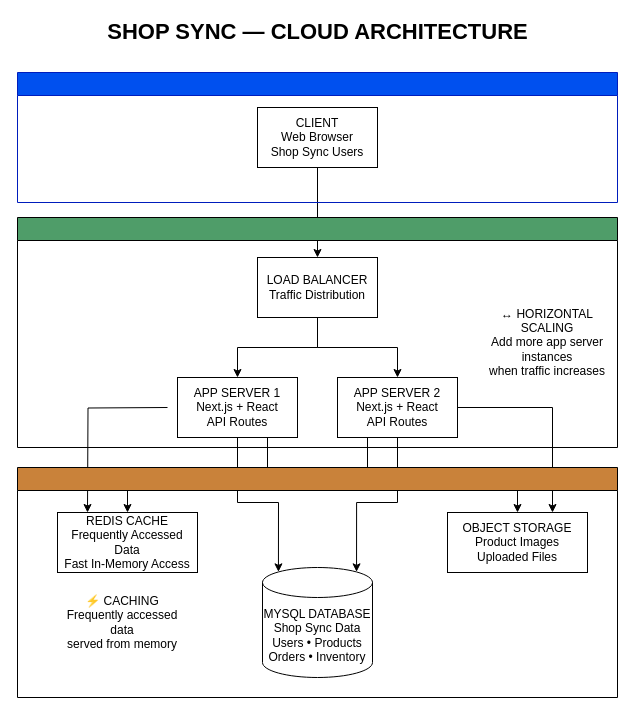
Image size: 635x715. Some labels were removed from this diagram. Here are the shapes that lost their labels. From the top down, the box of each, then its label:
(16, 72, 618, 202): PRESENTATION TIER
(16, 216, 618, 448): APPLICATION TIER
(16, 466, 618, 698): DATA TIER
